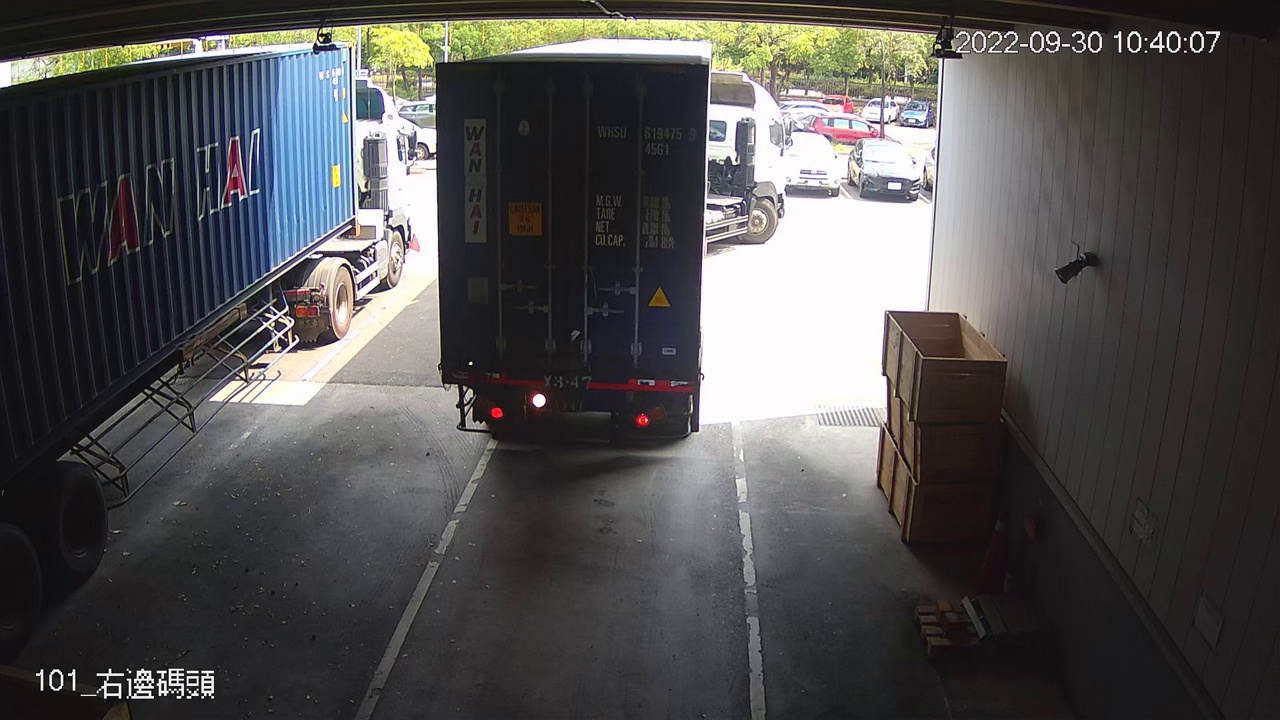container: (591, 118, 700, 162)
